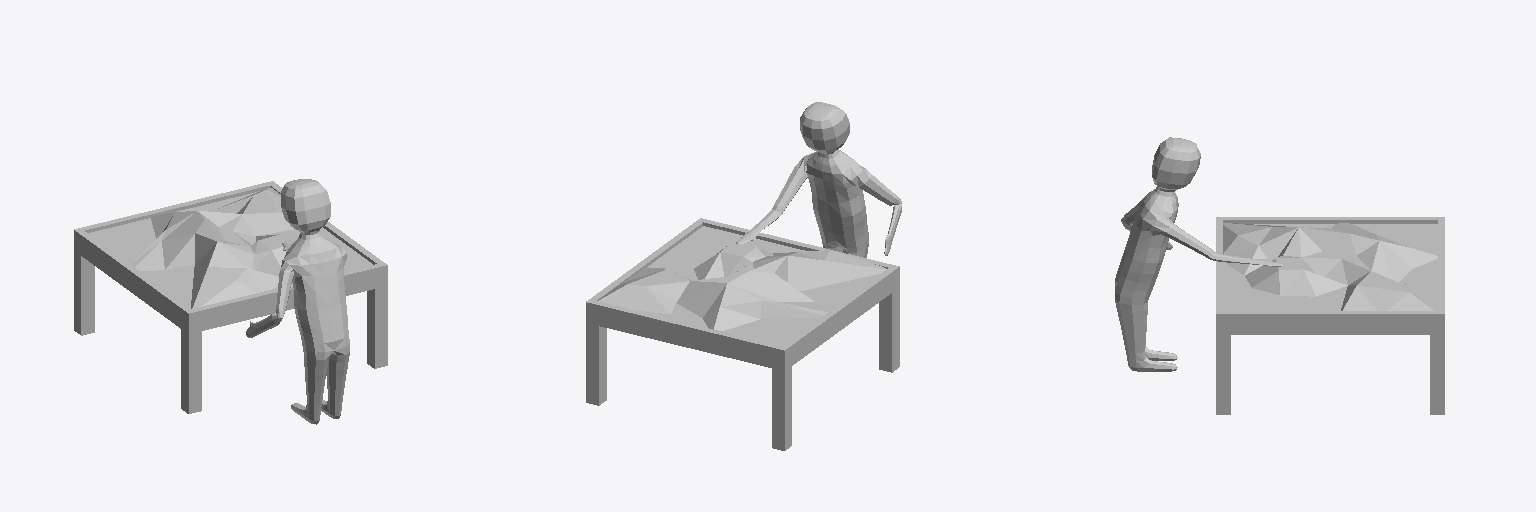
The model's file is campeign_board.obj.
The picture shows the model from 3 angles: view 1: azimuth 30°, elevation 25°; view 2: azimuth 150°, elevation 25°; view 3: azimuth 270°, elevation 25°; orthographic projection.
Parts seen in each view (by area): view 1: plane, cube, Cube; view 2: plane, cube, Cube; view 3: plane, cube, Cube.
Part boxes in pixels (bbox=[...]): plane: bbox=[88, 187, 372, 308]; cube: bbox=[74, 181, 387, 413]; Cube: bbox=[246, 179, 349, 424]; plane: bbox=[598, 226, 886, 345]; cube: bbox=[586, 218, 899, 450]; Cube: bbox=[736, 102, 901, 257]; plane: bbox=[1223, 223, 1437, 310]; cube: bbox=[1216, 217, 1444, 414]; Cube: bbox=[1115, 137, 1282, 371].
Size of the model in its own units: 0.9375 by 1.01 by 1.35.